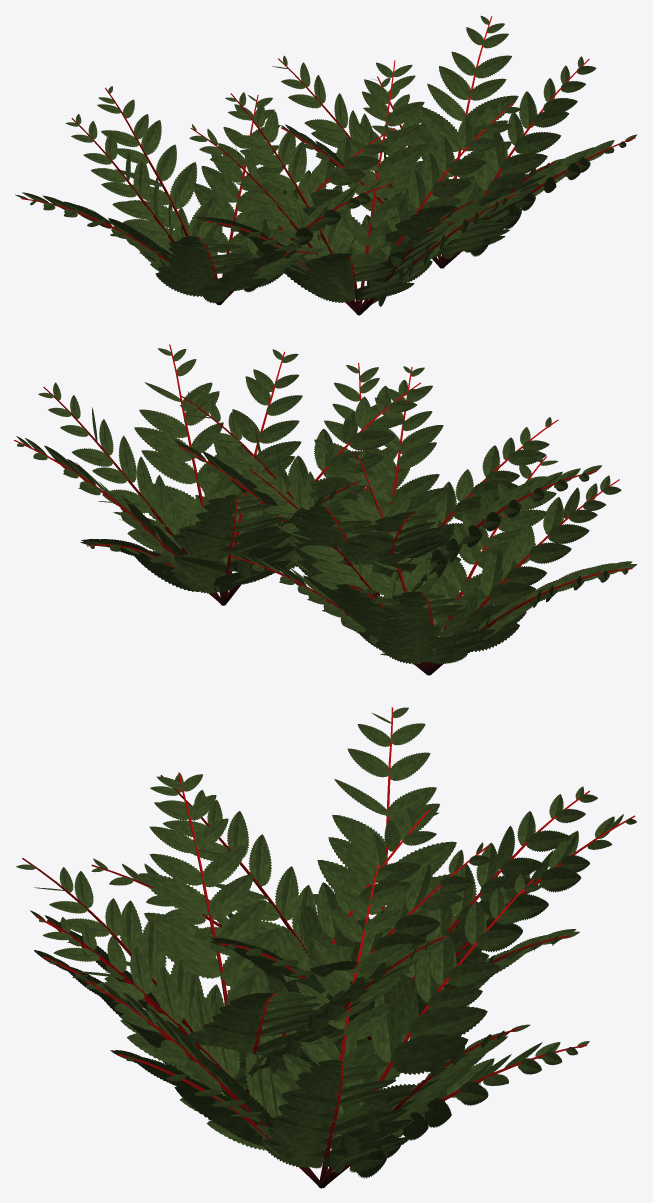
The model's file is rock_fern_v01.fbx.
3 views of the same model, one above another, from view 1: azimuth 30°, elevation 25°; view 2: azimuth 150°, elevation 25°; view 3: azimuth 270°, elevation 25° (orthographic). The views are drawn at different scales.
Visible parts, largest first — view 1: rock_fern_v01; view 2: rock_fern_v01; view 3: rock_fern_v01.
Boxes of the visible parts, x1,y1,x2,y2 form: rock_fern_v01: [15, 15, 636, 315]; rock_fern_v01: [14, 344, 636, 675]; rock_fern_v01: [16, 707, 636, 1188].
Bounding box in the file's own units: 35.23 × 10.83 × 24.44.
